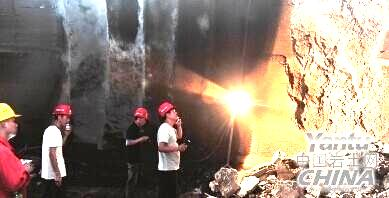helmet: (1, 103, 23, 137), (52, 103, 72, 128), (157, 101, 178, 123), (132, 106, 149, 128)
